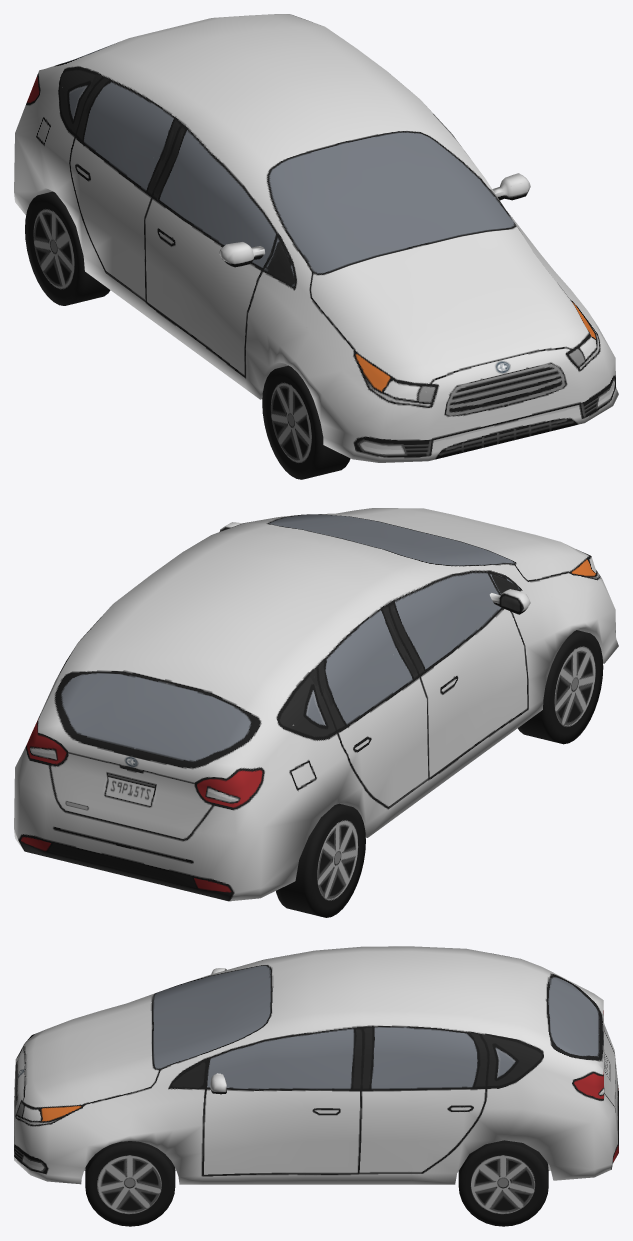
File: vehicle_hatchback.fbx
3 views of the same model, one above another, from view 1: azimuth 30°, elevation 25°; view 2: azimuth 150°, elevation 25°; view 3: azimuth 270°, elevation 25° (orthographic). The views are drawn at different scales.
Parts seen in each view (by area): view 1: Vehicle_Mesh, Wheel_Front_Right, Wheel_Back_Right; view 2: Vehicle_Mesh, Wheel_Back_Right, Wheel_Front_Right; view 3: Vehicle_Mesh, Wheel_Back_Left, Wheel_Front_Left.
Part boxes in pixels (x1,y1,x2,y2): Vehicle_Mesh: [14, 14, 618, 462]; Wheel_Front_Right: [262, 365, 350, 479]; Wheel_Back_Right: [25, 191, 110, 305]; Vehicle_Mesh: [14, 508, 618, 901]; Wheel_Back_Right: [276, 803, 365, 917]; Wheel_Front_Right: [518, 630, 603, 744]; Vehicle_Mesh: [14, 946, 618, 1184]; Wheel_Back_Left: [458, 1140, 548, 1226]; Wheel_Front_Left: [85, 1141, 175, 1226].
Bounding box in the file's own units: 335 × 263 × 728.
